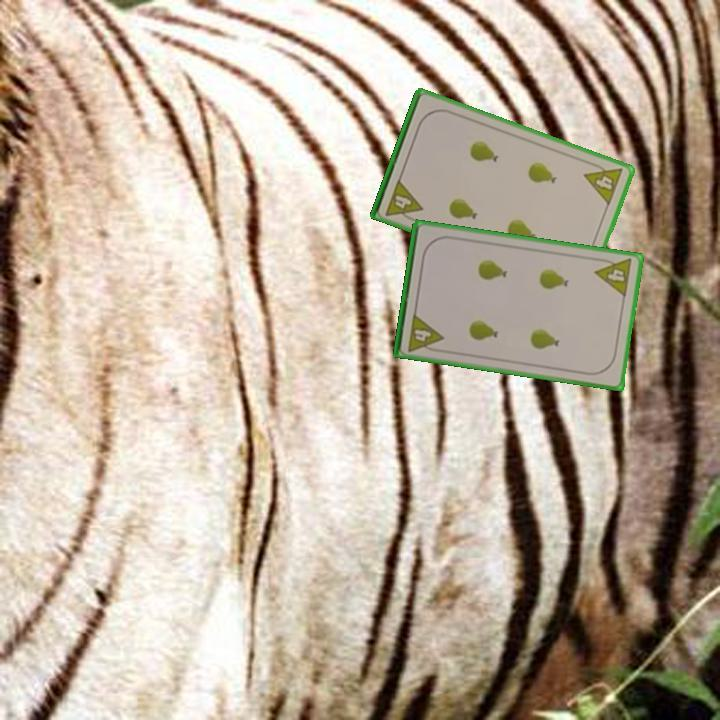4p: (581, 158, 626, 208), (382, 175, 425, 225), (592, 254, 635, 300), (404, 310, 446, 355)
